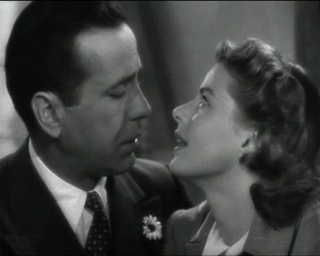cu: (1, 1, 320, 256)
face: (87, 43, 152, 175), (168, 66, 231, 178)
person: (1, 1, 194, 256), (168, 36, 320, 256)
